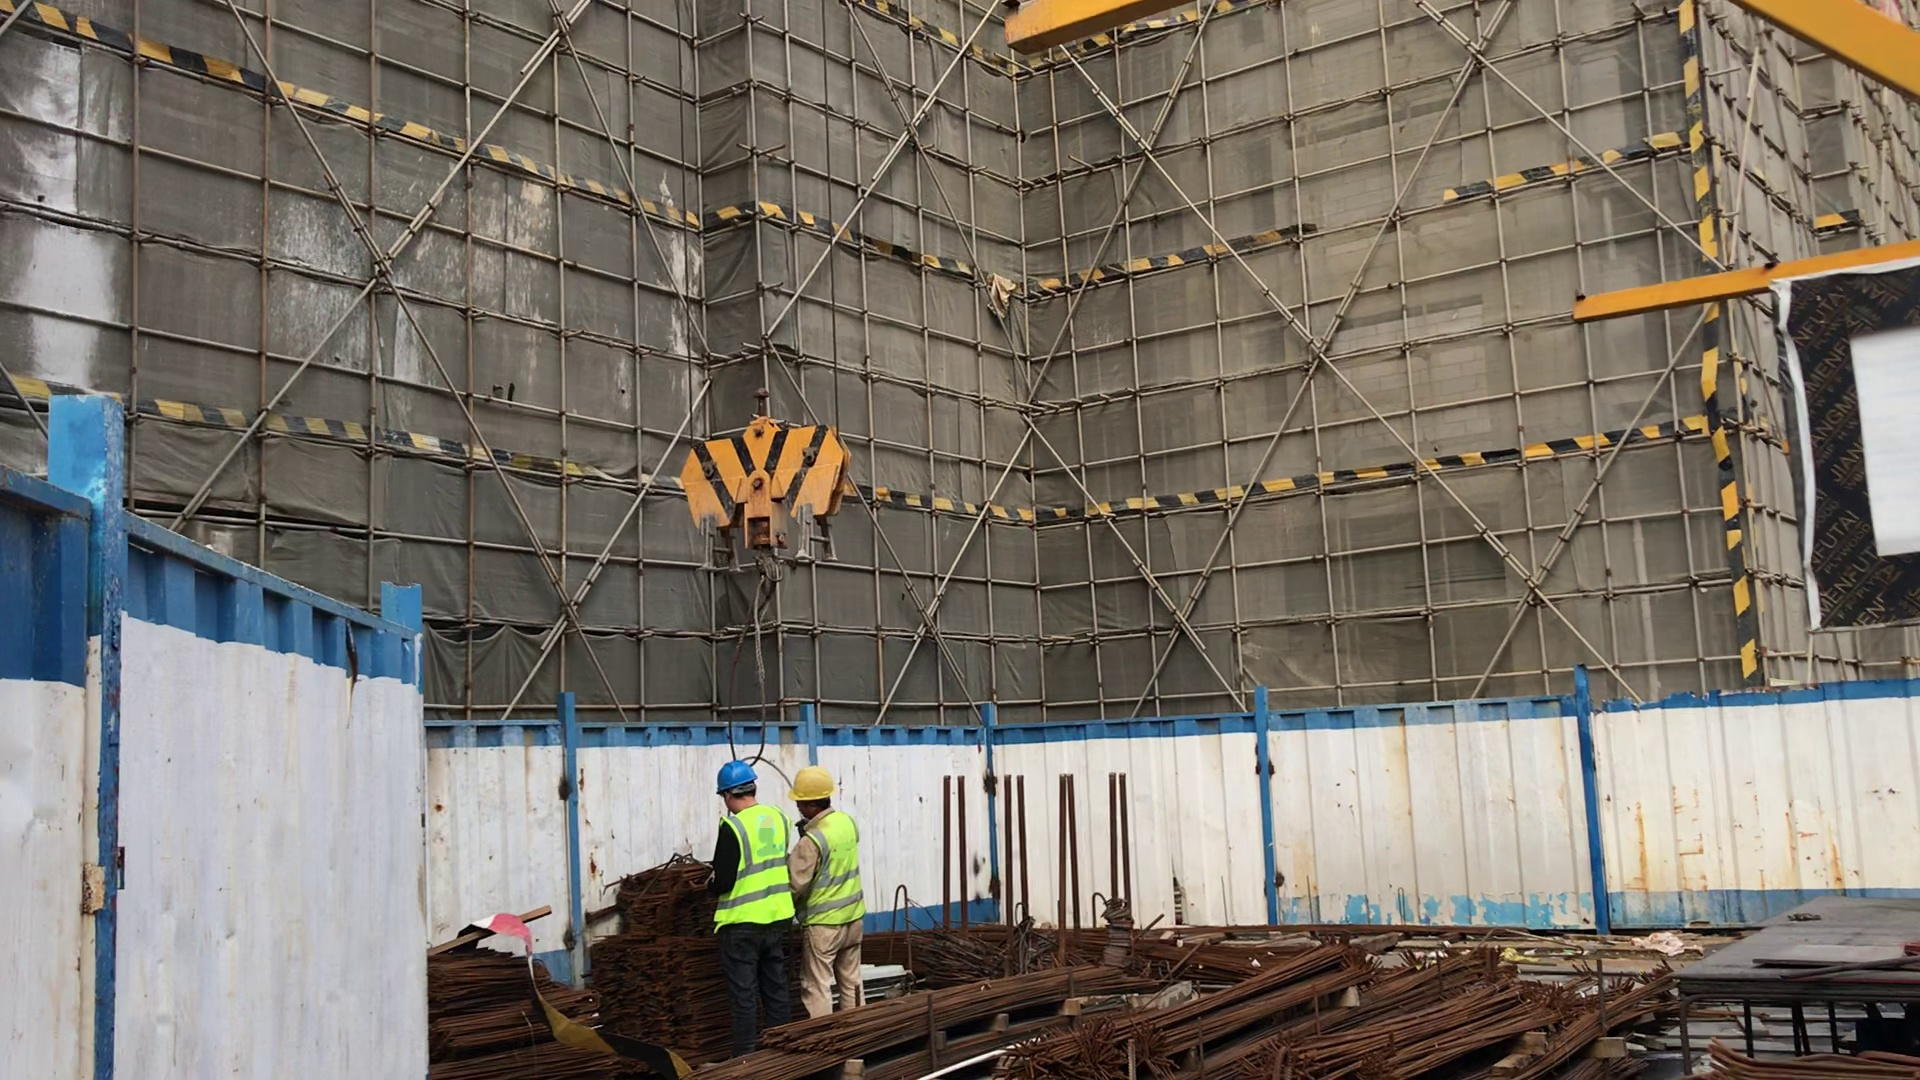helmet: (793, 769, 842, 802), (718, 761, 764, 793)
hook: (673, 416, 875, 573)
person: (711, 755, 796, 1022), (792, 764, 870, 1021)
rebar: (894, 943, 1571, 1080), (607, 859, 736, 1057), (431, 952, 603, 1080), (892, 915, 993, 985)
vest: (715, 805, 800, 933), (797, 812, 872, 930)
